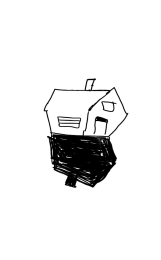chimney: (82, 74, 100, 93)
closed_window: (54, 113, 83, 129)
door: (91, 114, 110, 136)
shadow: (40, 129, 123, 192)
single_line_roof: (43, 86, 132, 116)
small_house: (1, 1, 161, 260)
wall: (85, 86, 129, 146)
